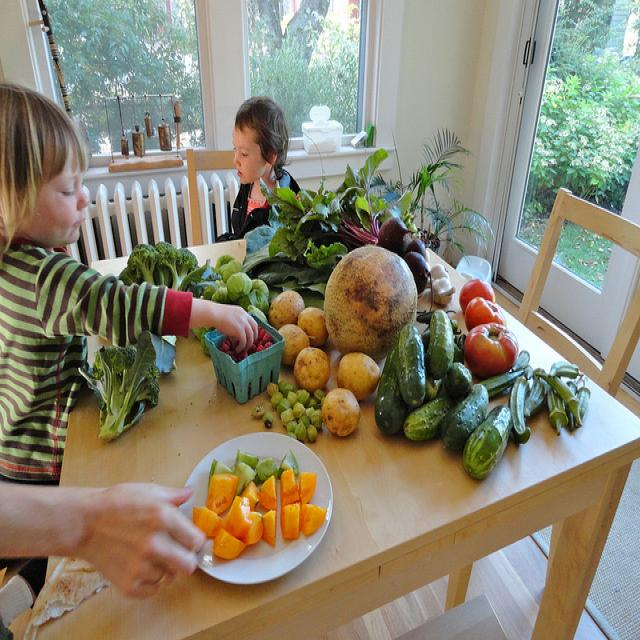chair: (517, 188, 640, 400), (186, 150, 236, 247)
dining table: (53, 236, 640, 640)
